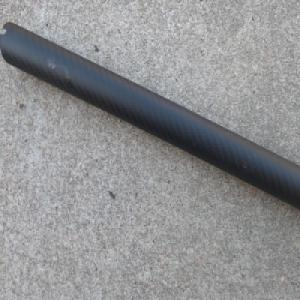LuggagePart: (0, 20, 300, 211)
